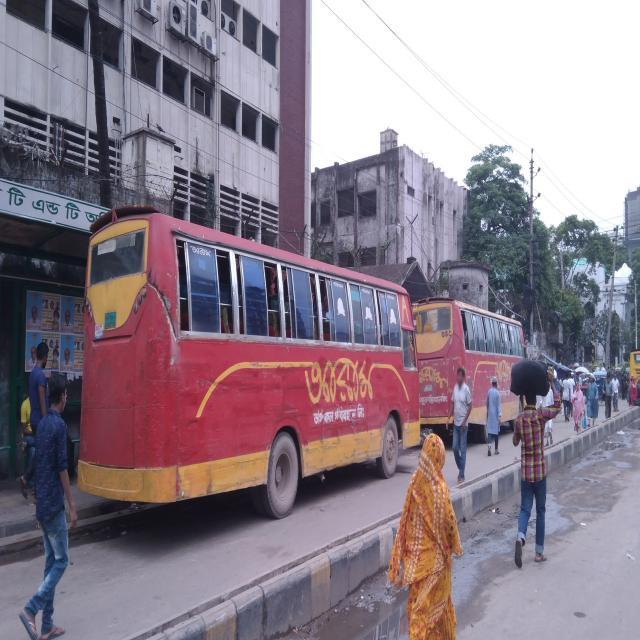Bus: (54, 187, 449, 534), (391, 282, 544, 469)
